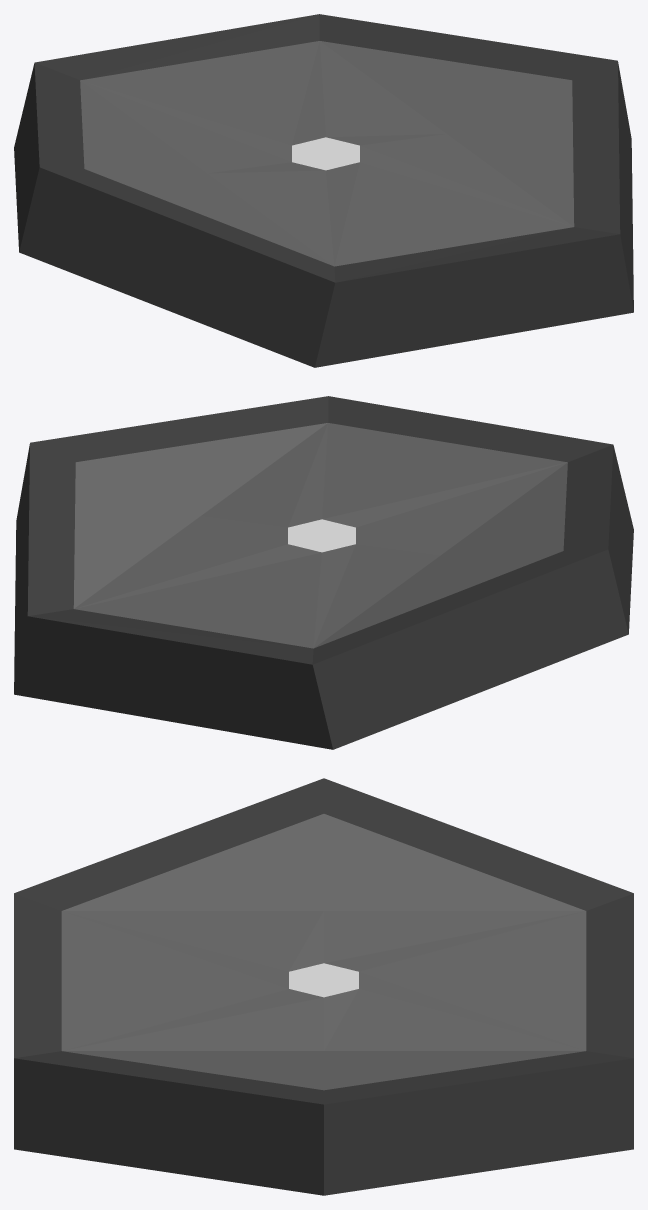
Rendered from food_whale.FBX.
3 renders of one model, top to bottom at view 1: azimuth 30°, elevation 25°; view 2: azimuth 150°, elevation 25°; view 3: azimuth 270°, elevation 25°, orthographic. The views are drawn at different scales.
Parts seen in each view (by area): view 1: food_whale; view 2: food_whale; view 3: food_whale.
Boxes of the visible parts, x1,y1,x2,y2 form: food_whale: (14,14,633,367); food_whale: (14,396,633,749); food_whale: (14,778,633,1195).
Bounding box in the file's own units: 43.26 × 9.99 × 36.79.
